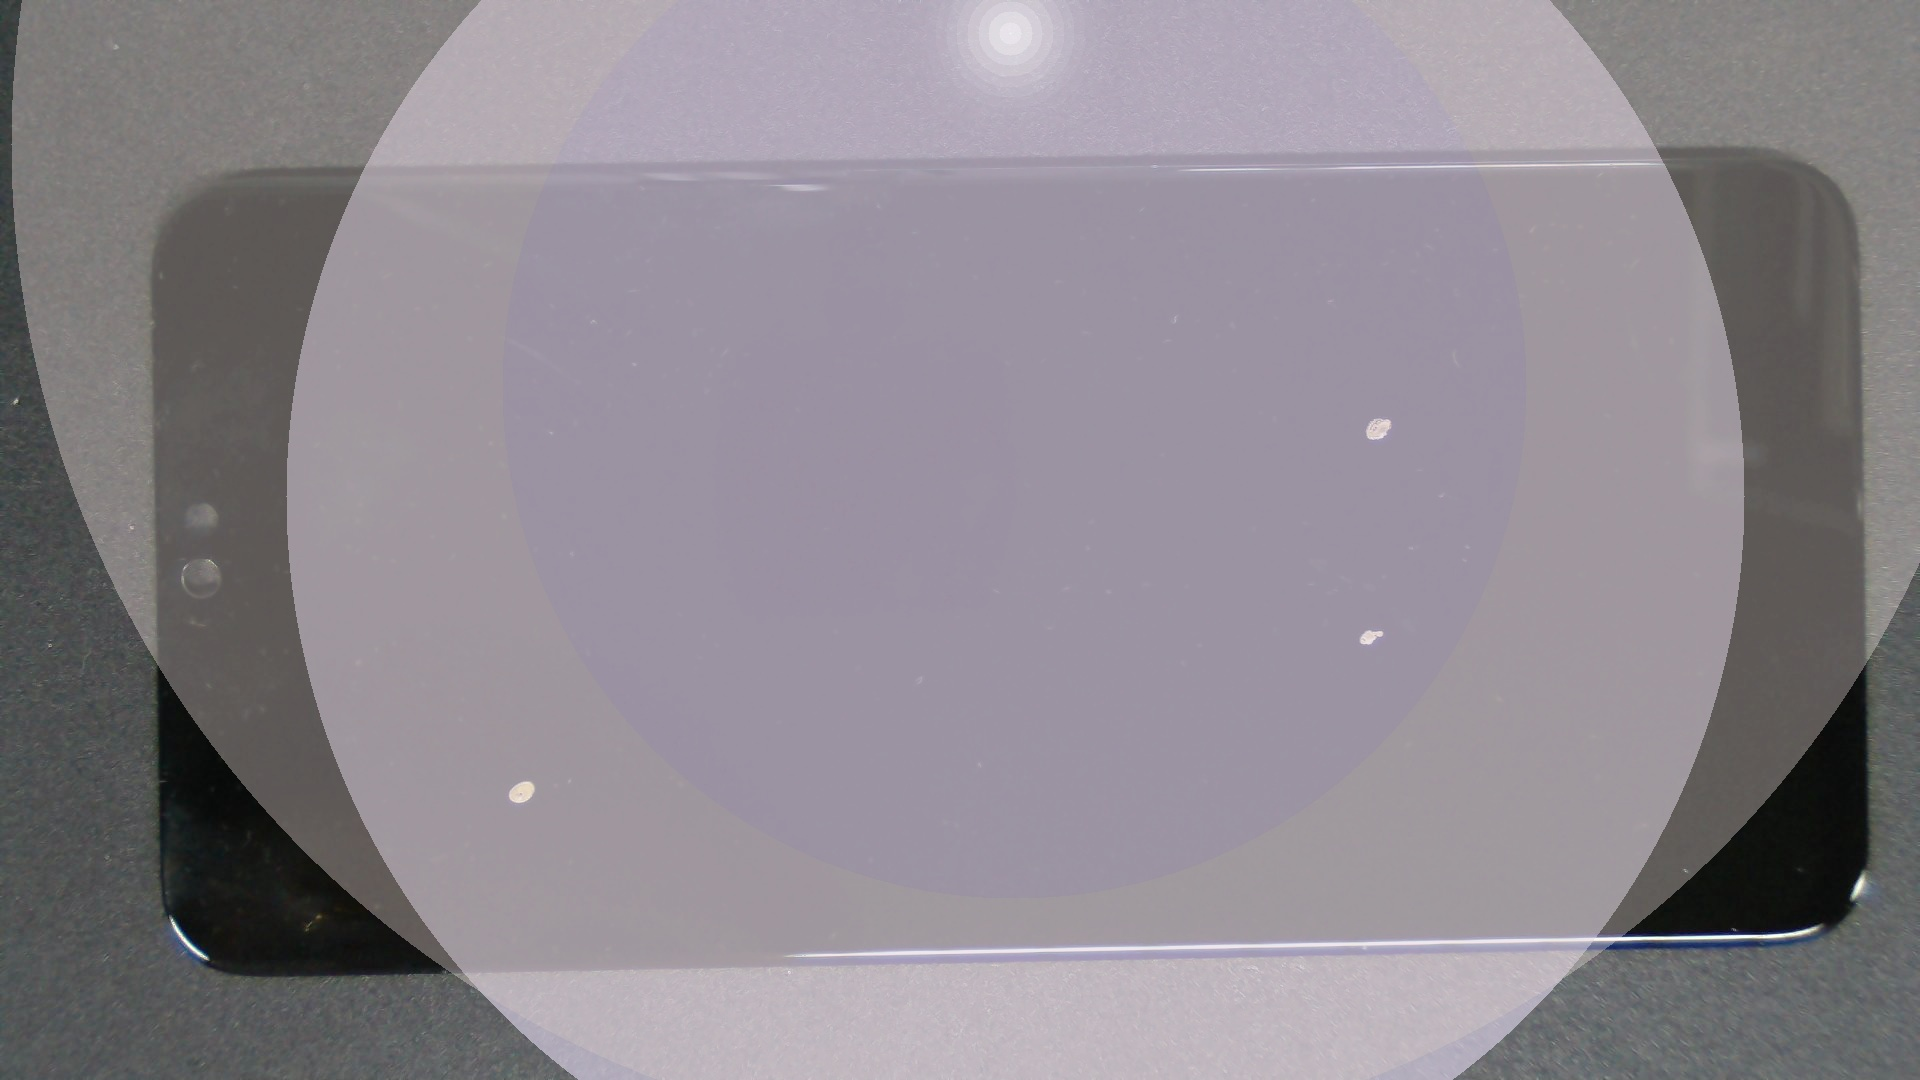oil: (683, 314, 1920, 944), (690, 208, 1920, 626), (261, 389, 781, 1080)
